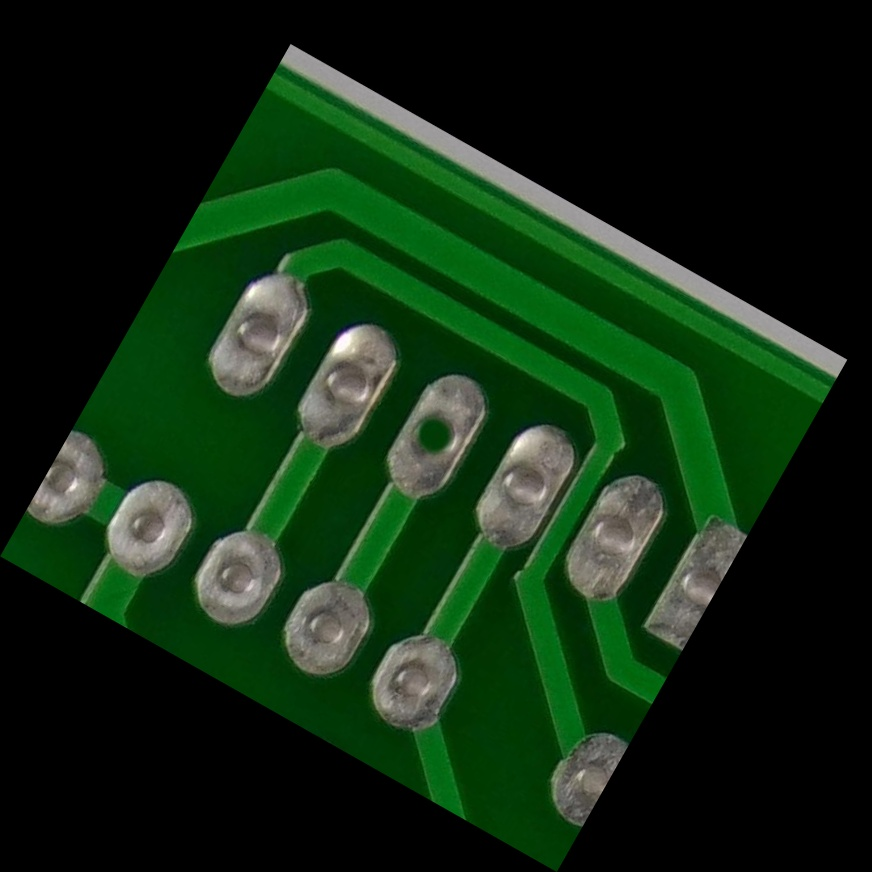missing_hole: (371, 373, 495, 504)
